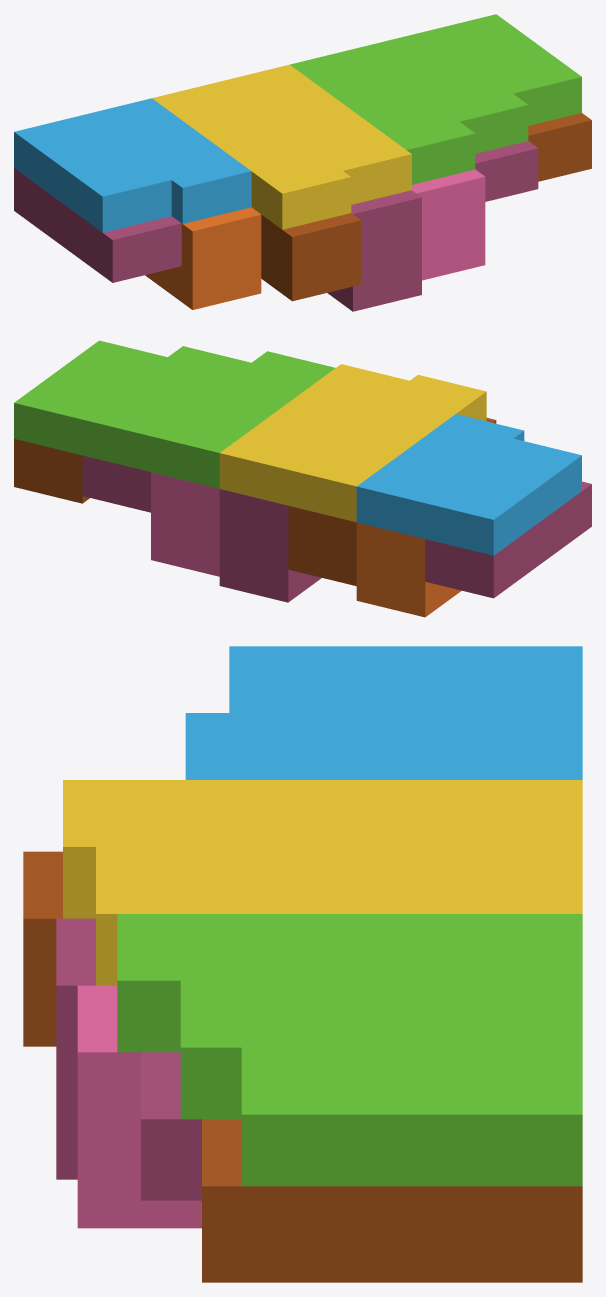
The model's file is DesertOverhang.obj.
3 renders of one model, top to bottom at view 1: azimuth 30°, elevation 25°; view 2: azimuth 150°, elevation 25°; view 3: azimuth 270°, elevation 25°, orthographic. The views are drawn at different scales.
Parts seen in each view (by area): view 1: DesertOverhang; view 2: DesertOverhang; view 3: DesertOverhang.
Part boxes in pixels (x1,y1,x2,y2): DesertOverhang: (14, 14, 591, 311); DesertOverhang: (14, 340, 591, 617); DesertOverhang: (23, 646, 582, 1282).
Bounding box in the file's own units: 14 × 3.71 × 7.06.
